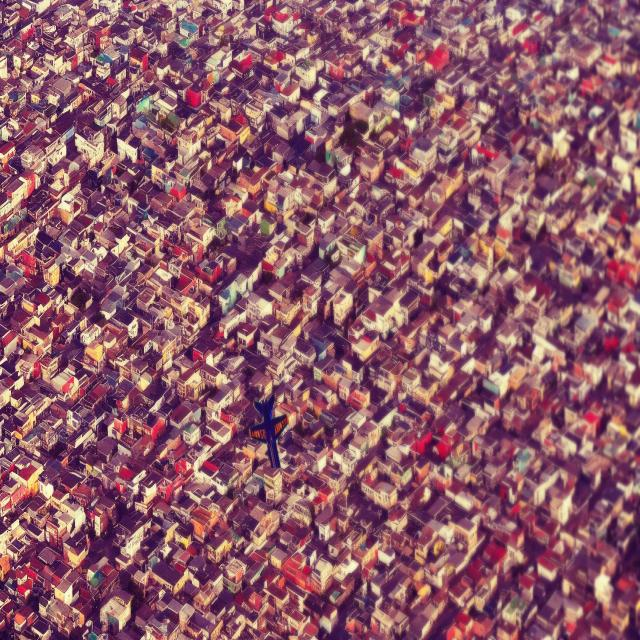airplane: (248, 400, 289, 468)
